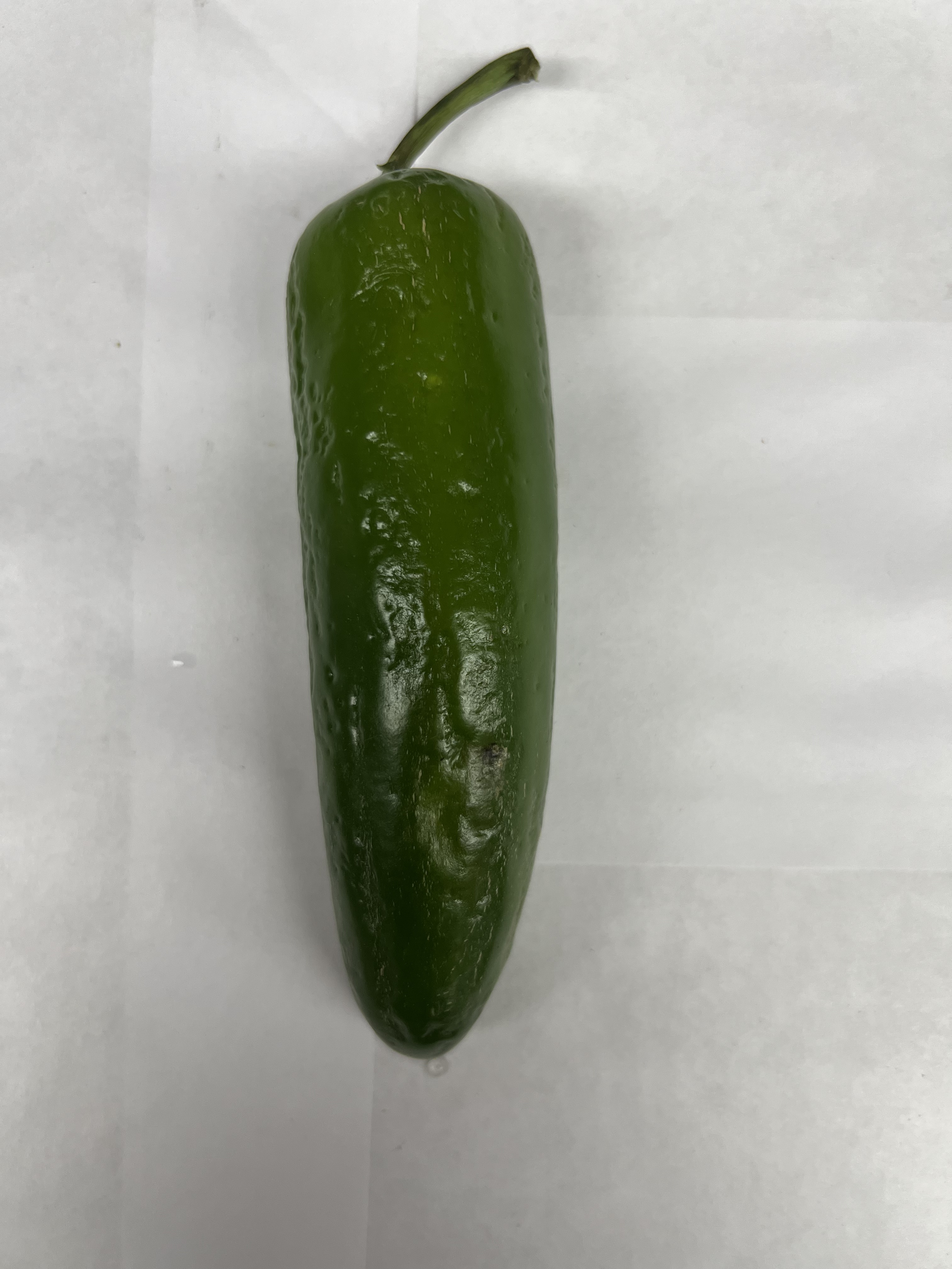produce: (278, 40, 566, 1068)
